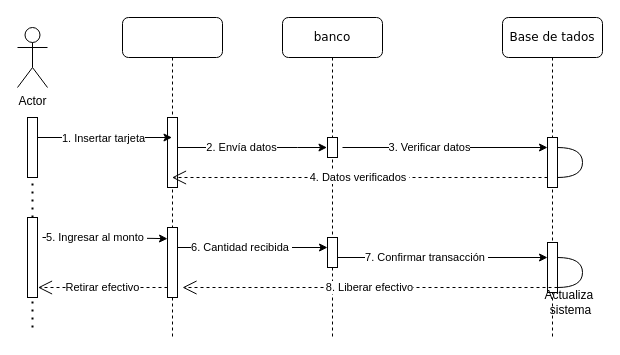
Some shapes in this 620 by 355 pixel diagram are drawn without their labels. The centre of each missing label's shape, as x and y in pixels:
"Acceso al sistema" goes at (x=569, y=162).
"cajero" goes at (x=172, y=177).
